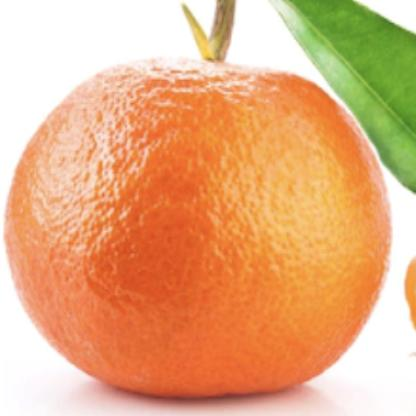fresh: (4, 56, 391, 405)
